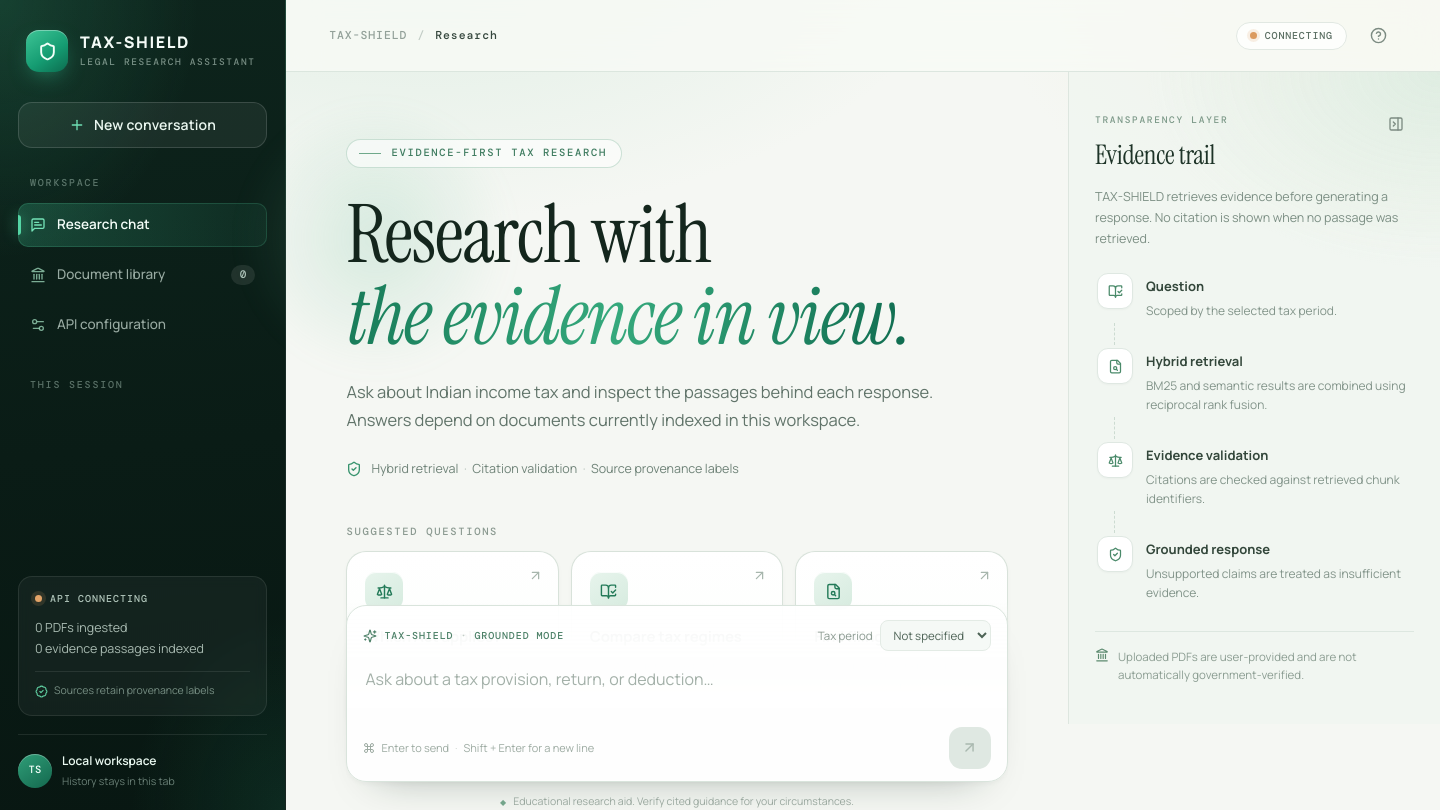
TAX-SHIELD chat and library › renders a real citation returned by the chat API
In the text box named "Ask an Indian income tax question": x=677, y=690 [364,652,991,727], type "What is Section 80C?"
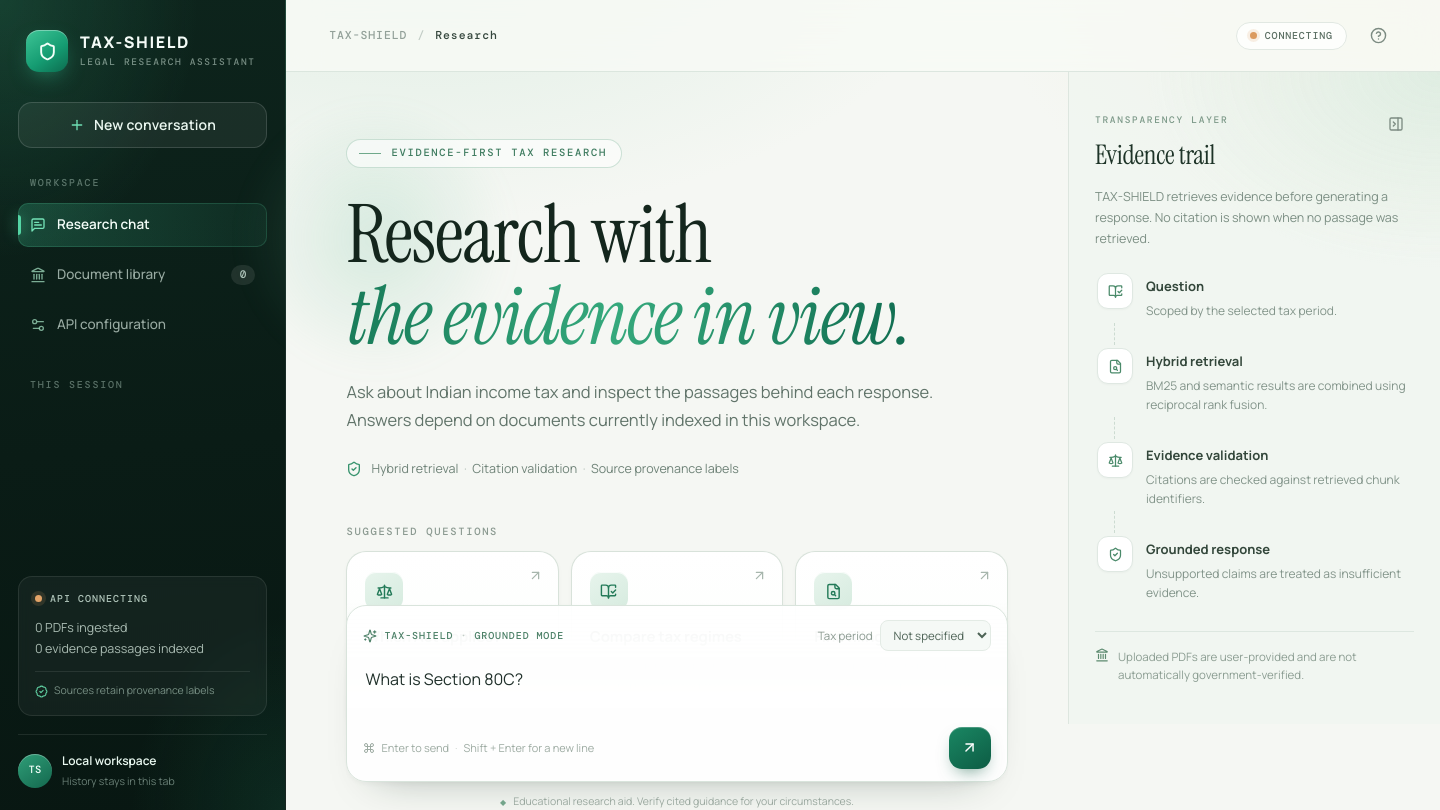
Click the button named "Send question": x=970, y=748 [948,727,990,769]
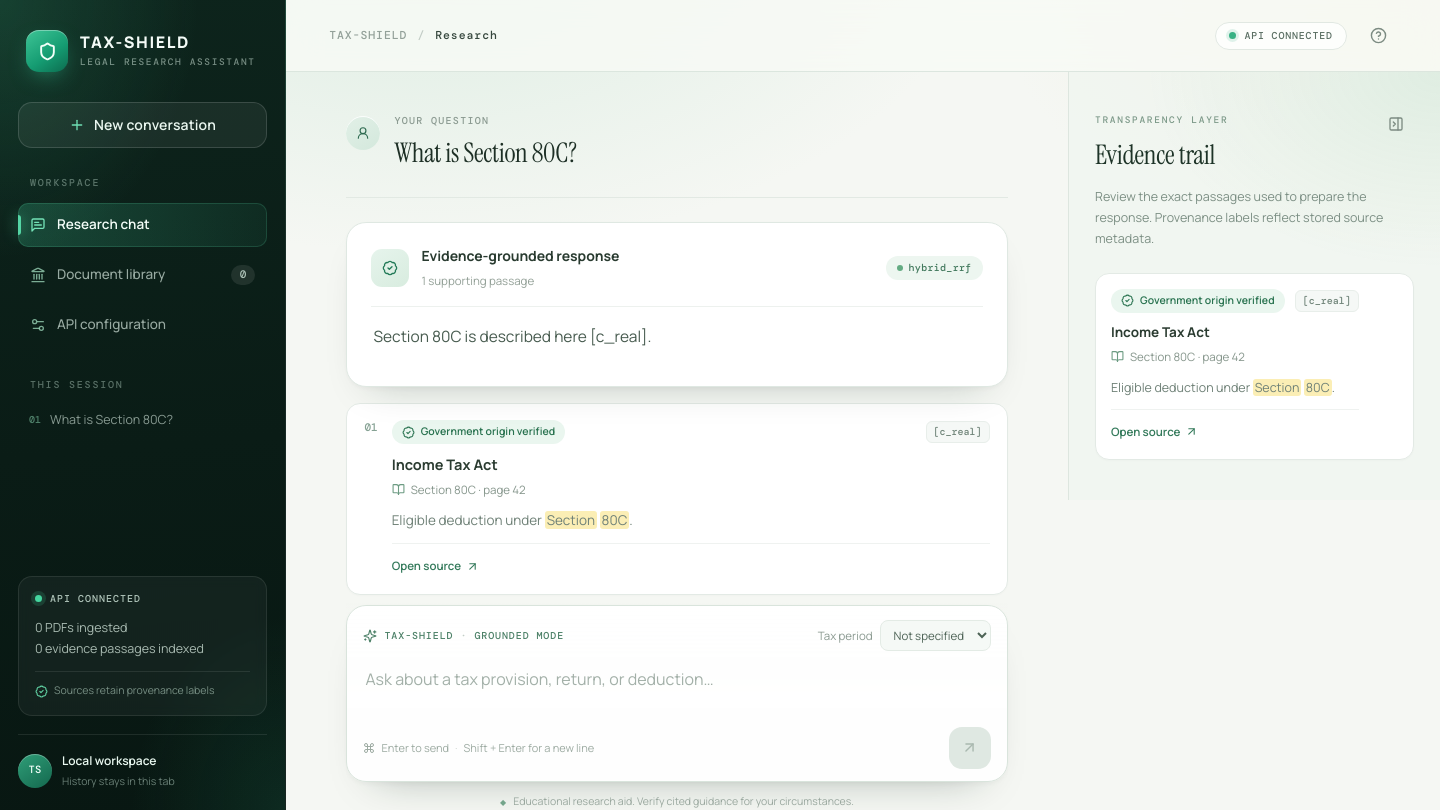
Now the text "Section 80C is described here [c_real]." is shown, box [374,325,651,347]
Now the text "Government origin verified" is shown 2 times, box [392,420,565,444]; [1111,289,1285,313]
